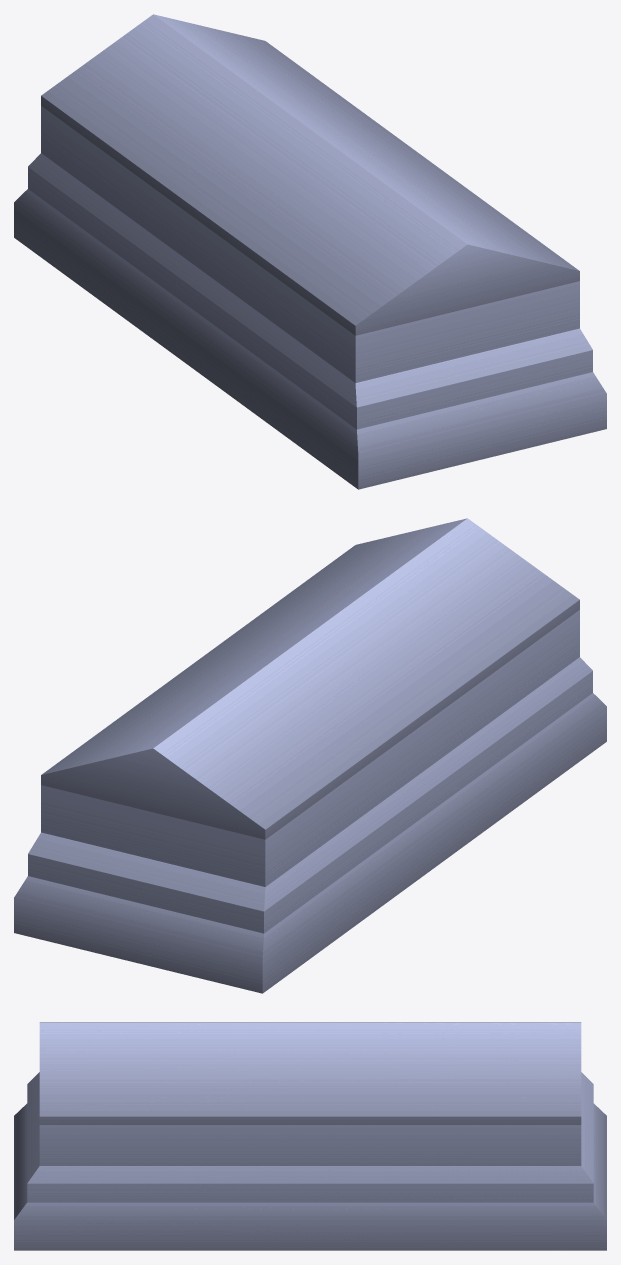
Rendered from gravestone-flat-open.glb.
3 renders of one model, top to bottom at view 1: azimuth 30°, elevation 25°; view 2: azimuth 150°, elevation 25°; view 3: azimuth 270°, elevation 25°, orthographic. The views are drawn at different scales.
Visible parts, largest first — view 1: gravestone-flat-open, gravestone-flat-open.001; view 2: gravestone-flat-open, gravestone-flat-open.001; view 3: gravestone-flat-open, gravestone-flat-open.001.
Part boxes in pixels (x1,y1,x2,y2): gravestone-flat-open: (14,106,606,489); gravestone-flat-open.001: (41,14,579,335); gravestone-flat-open: (14,610,606,993); gravestone-flat-open.001: (41,518,579,839); gravestone-flat-open: (14,1072,606,1250); gravestone-flat-open.001: (39,1022,581,1124).
Bounding box in the file's own units: 1.42 × 1.11 × 3.4.
Materials: 1 (1 with a texture image).
